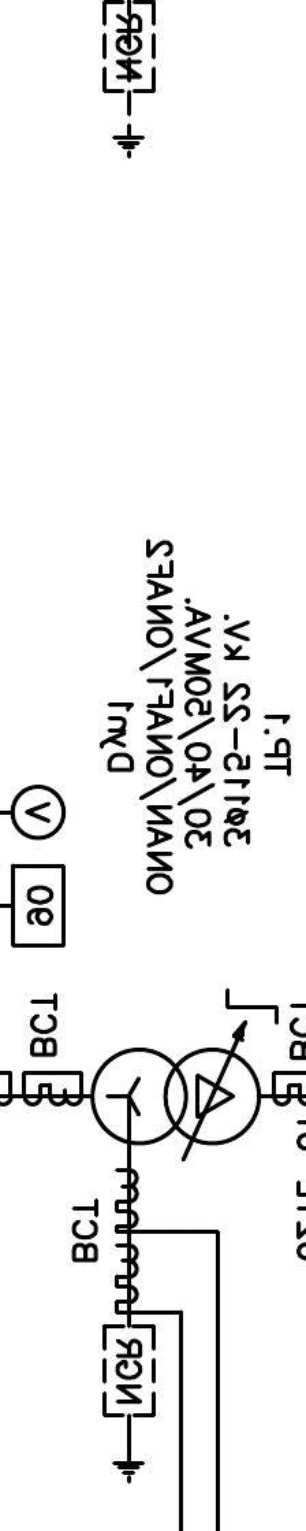11522_tx_dyn1: (89, 1046, 262, 1147)
NGR_future: (101, 1323, 157, 1485)
v_m: (10, 783, 67, 842)
